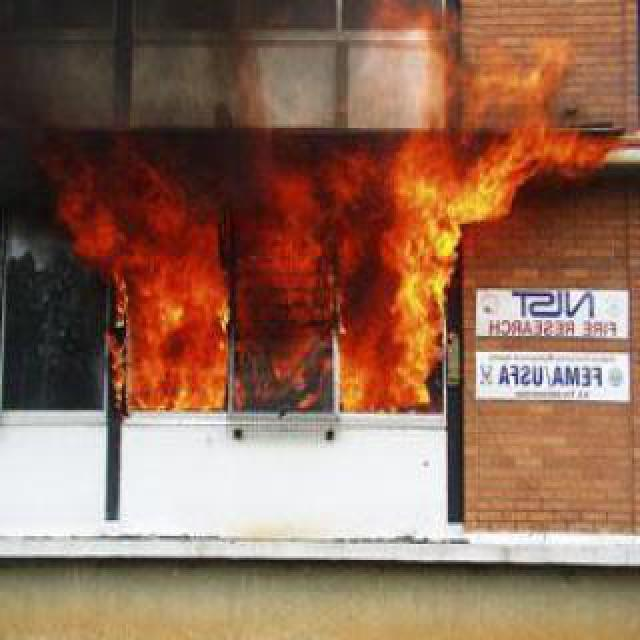Fire: (42, 22, 602, 412)
